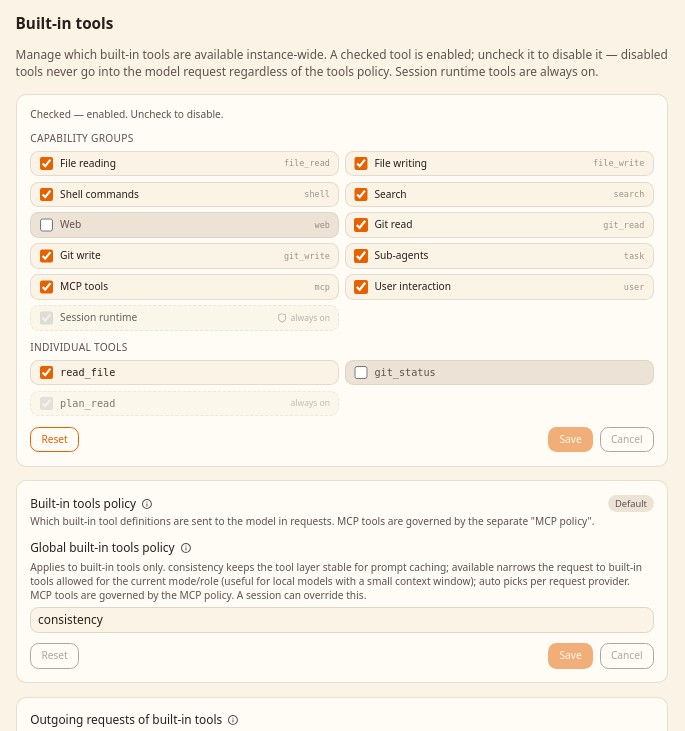
Test: ToolsDisabledSettings — админский tools.disabled (ADR-071 §2.6) › Reset инструментов вызывает resetToolsDisabled и включает всё
Expected: the checkbox with test id "tools-disabled-group-web" is not checked, [40,218,53,232]
Step 1. Click the button with test id "tools-disabled-reset" → (55, 439), box [30,426,79,452]
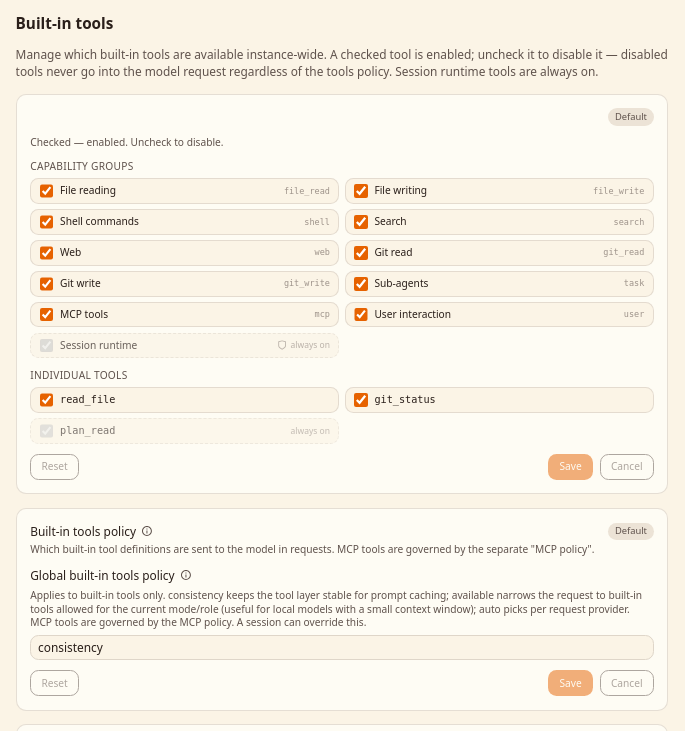
Now the checkbox with test id "tools-disabled-group-web" is checked, box [40,246,53,260]
